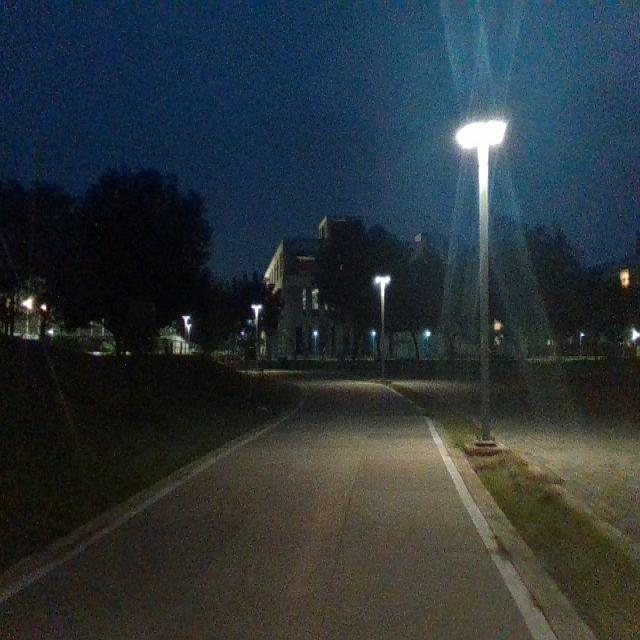lane: (0, 385, 535, 640)
